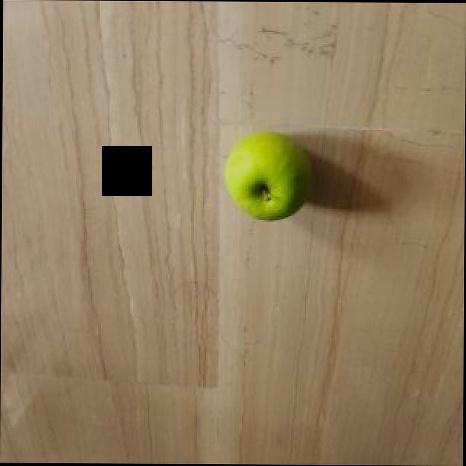green apple: (223, 134, 313, 227)
